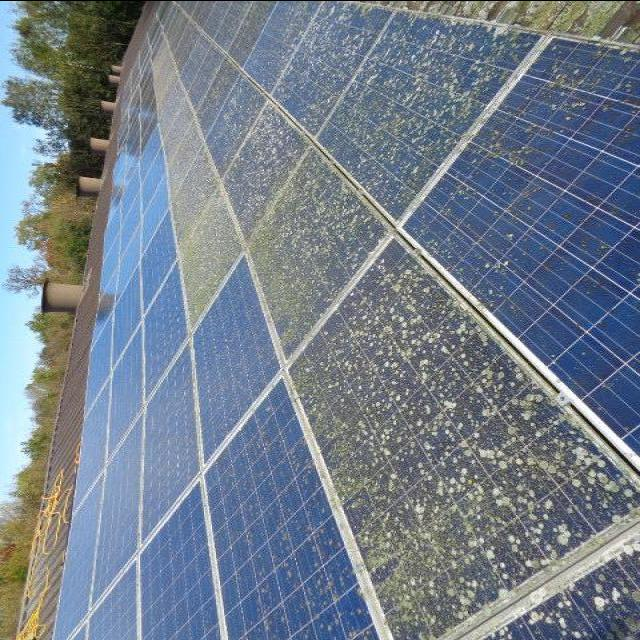soiled: (150, 4, 640, 639)
